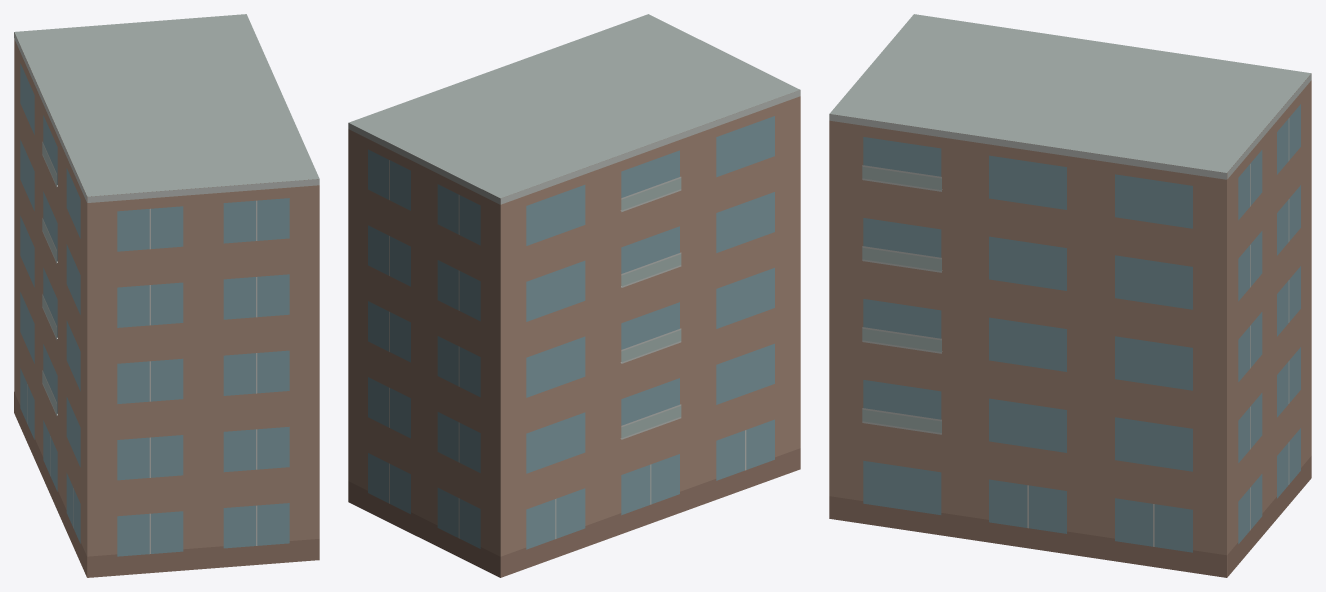
Rendered from survey-upis-32941143.glb.
3 renders of one model, left to right at view 1: azimuth 30°, elevation 25°; view 2: azimuth 150°, elevation 25°; view 3: azimuth 270°, elevation 25°, orthographic. The views are drawn at different scales.
Parts seen in each view (by area): view 1: survey-upis-32941143.tmp; view 2: survey-upis-32941143.tmp; view 3: survey-upis-32941143.tmp.
Boxes of the visible parts, x1,y1,x2,y2 form: survey-upis-32941143.tmp: [14, 14, 319, 577]; survey-upis-32941143.tmp: [348, 14, 800, 577]; survey-upis-32941143.tmp: [829, 14, 1311, 577].
Size of the model in its own units: 12.27 by 14.55 by 15.72.
